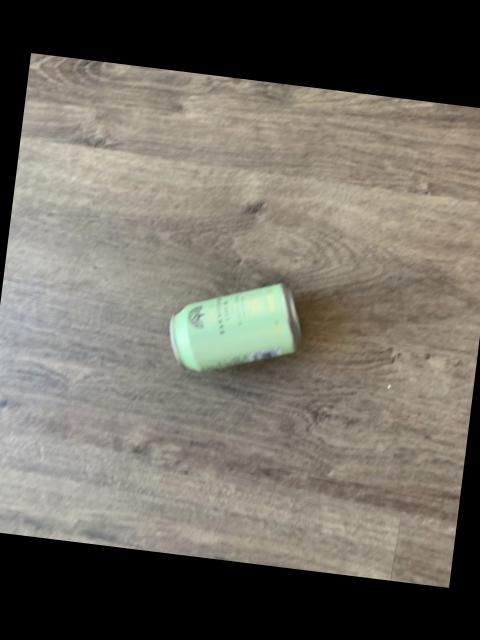metal: (167, 285, 298, 372)
